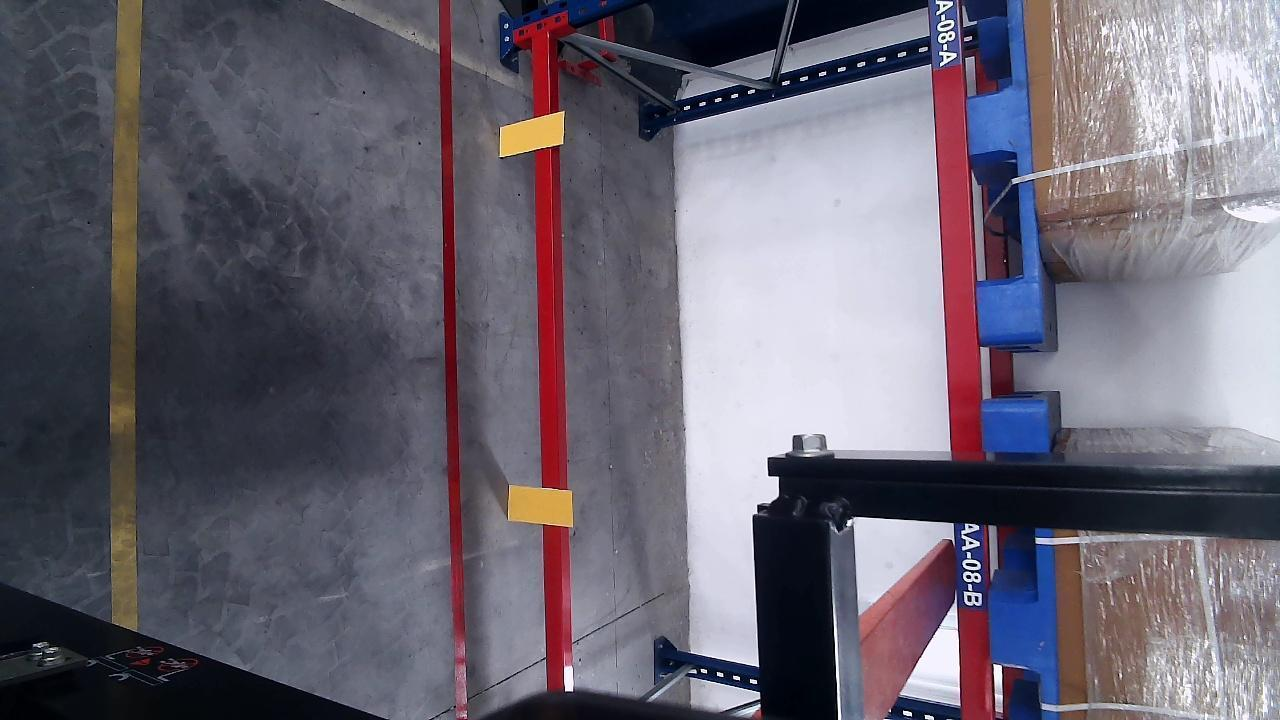red_line: (437, 2, 471, 719)
yellow_line: (110, 2, 141, 633)
